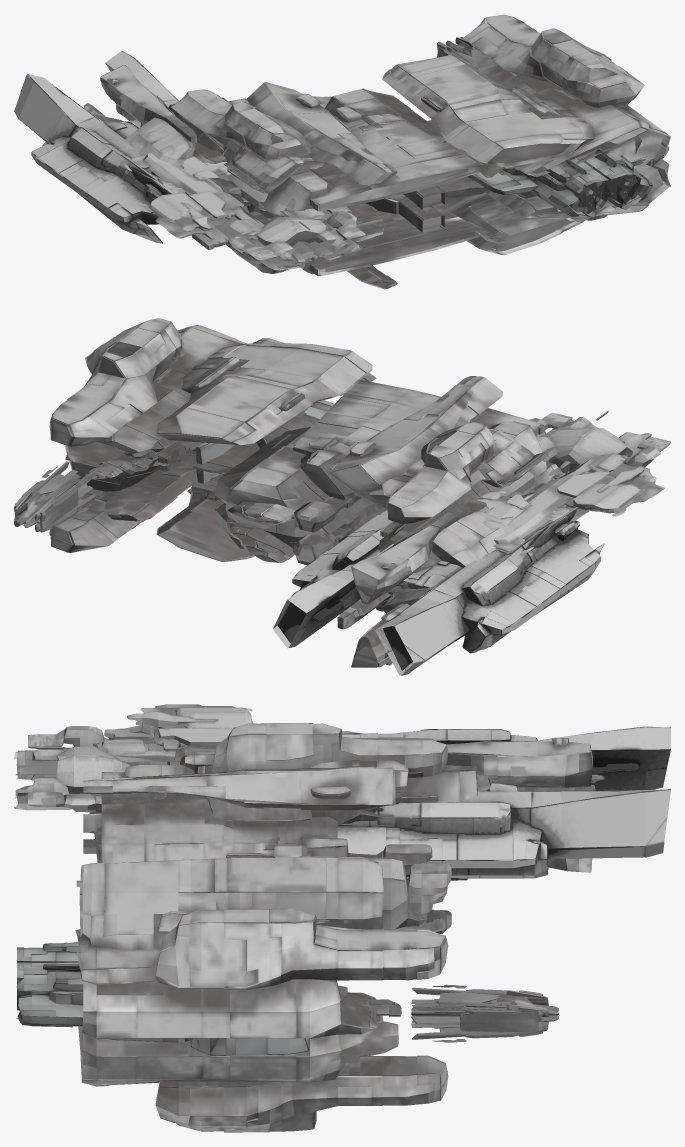
Rendered from MOTHERSHIP_003.fbx.
3 views of the same model, one above another, from view 1: azimuth 30°, elevation 25°; view 2: azimuth 150°, elevation 25°; view 3: azimuth 270°, elevation 25° (orthographic). The views are drawn at different scales.
Parts seen in each view (by area): view 1: MOTHERSHIP_003; view 2: MOTHERSHIP_003; view 3: MOTHERSHIP_003.
Part boxes in pixels (left/top/right/bottom): MOTHERSHIP_003: left=14, top=14, right=670, bottom=289; MOTHERSHIP_003: left=14, top=318, right=670, bottom=675; MOTHERSHIP_003: left=14, top=704, right=670, bottom=1132.
Bounding box in the file's own units: 110 × 33.95 × 96.36.
